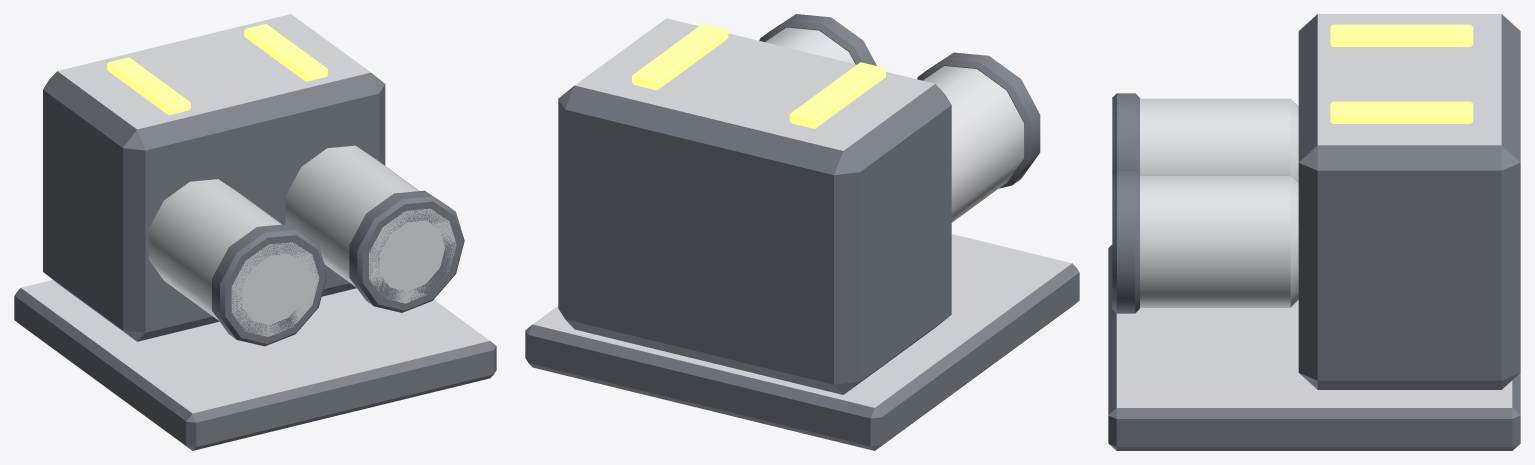
The model's file is R4X_DoubleShotPassive_LOD1.fbx.
The picture shows the model from 3 angles, left to right: view 1: azimuth 30°, elevation 25°; view 2: azimuth 150°, elevation 25°; view 3: azimuth 270°, elevation 25°; orthographic projection. The views are drawn at different scales.
Parts seen in each view (by area): view 1: R4X_DoubleShotPassive_LOD1; view 2: R4X_DoubleShotPassive_LOD1; view 3: R4X_DoubleShotPassive_LOD1.
Boxes of the visible parts, x1,y1,x2,y2 form: R4X_DoubleShotPassive_LOD1: (14,14,496,450); R4X_DoubleShotPassive_LOD1: (525,14,1079,450); R4X_DoubleShotPassive_LOD1: (1108,14,1520,450).
Bounding box in the file's own units: 0.52 × 0.415 × 0.52.
